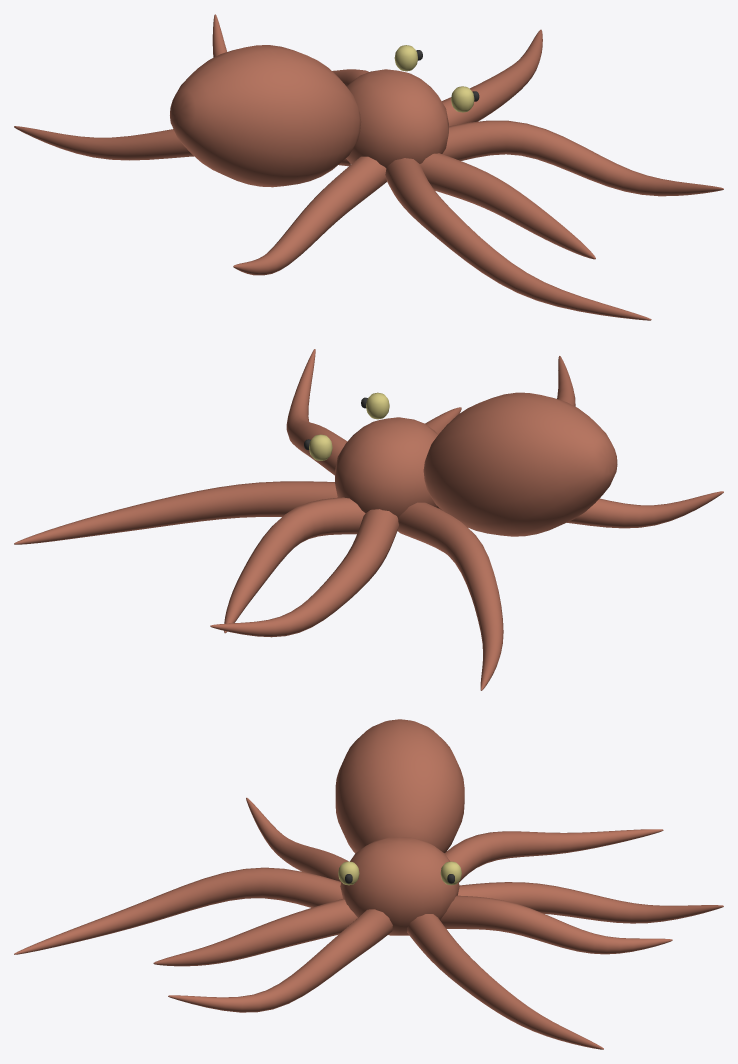
The model's file is giant_pacific_octopus.glb.
The picture shows the model from 3 angles, top to bottom: view 1: azimuth 30°, elevation 25°; view 2: azimuth 150°, elevation 25°; view 3: azimuth 270°, elevation 25°; orthographic projection. The views are drawn at different scales.
Parts seen in each view (by area): view 1: giant_pacific_octopus; view 2: giant_pacific_octopus; view 3: giant_pacific_octopus.
Boxes of the visible parts, x1,y1,x2,y2 form: giant_pacific_octopus: (14,14,723,320); giant_pacific_octopus: (14,349,723,690); giant_pacific_octopus: (14,719,723,1049).
Size of the model in its own units: 2.07 by 0.6342 by 2.77.
